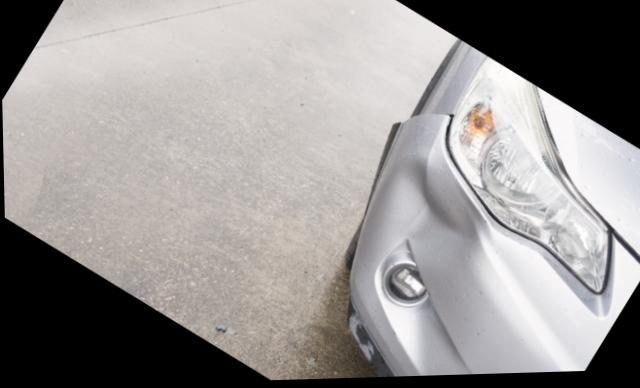dent: (383, 161, 483, 248)
scratch: (346, 299, 376, 367)
